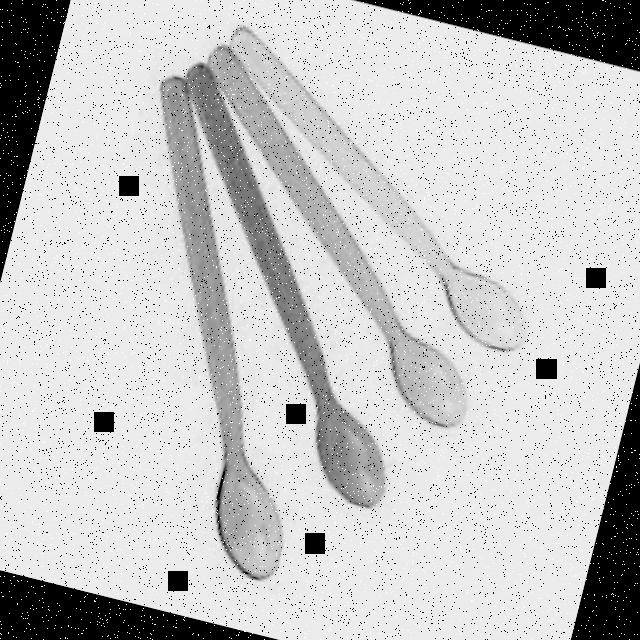plastic_spoon: (46, 3, 587, 625)
